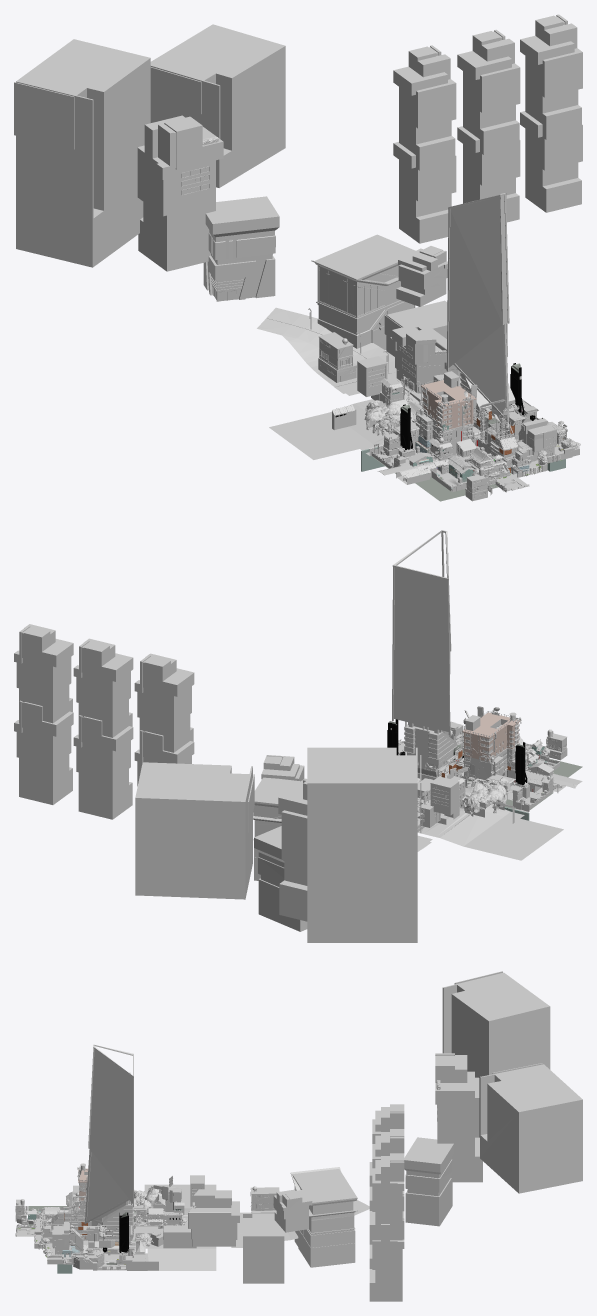
3 renders of one model, top to bottom at view 1: azimuth 30°, elevation 25°; view 2: azimuth 150°, elevation 25°; view 3: azimuth 270°, elevation 25°, orthographic. The views are drawn at different scales.
Visible parts, largest first — view 1: Shell_7_ASiteTowerBattery; view 2: Shell_7_ASiteTowerBattery; view 3: Shell_7_ASiteTowerBattery.
Part boxes in pixels (x1,y1,x2,y2): Shell_7_ASiteTowerBattery: (14, 14, 582, 501); Shell_7_ASiteTowerBattery: (14, 530, 582, 942); Shell_7_ASiteTowerBattery: (15, 971, 582, 1301).
Size of the model in its own units: 356 by 187 by 451.
